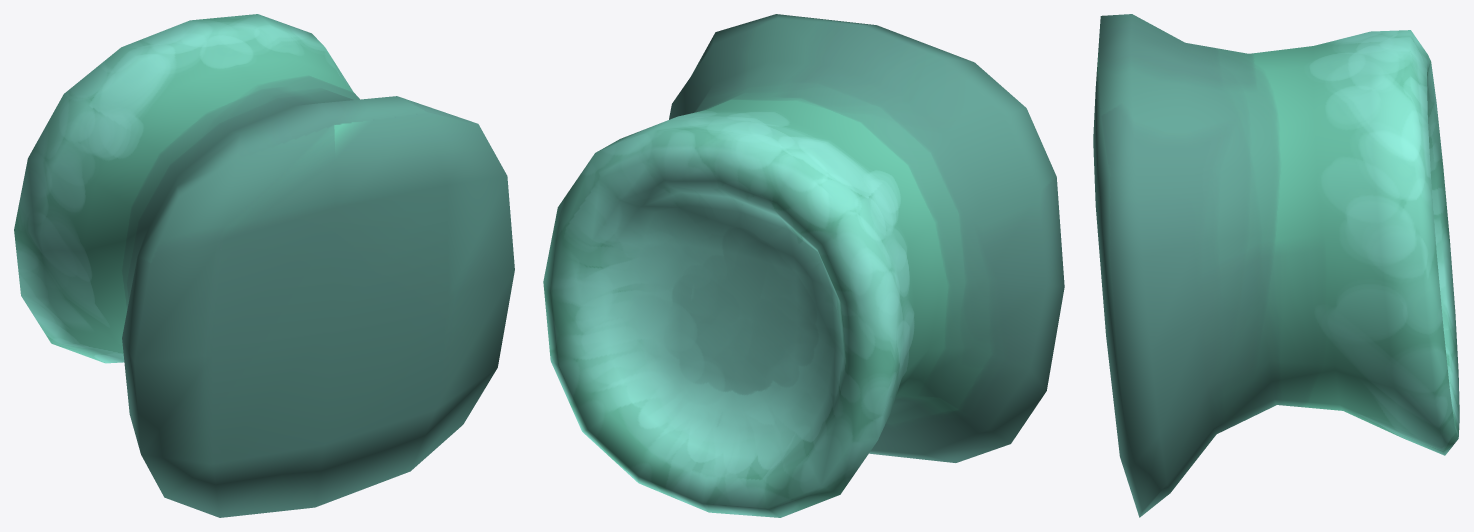
File: Anemone002.fbx
The picture shows the model from 3 angles, left to right: view 1: azimuth 30°, elevation 25°; view 2: azimuth 150°, elevation 25°; view 3: azimuth 270°, elevation 25°; orthographic projection. The views are drawn at different scales.
Visible parts, largest first — view 1: SeaAnemone02; view 2: SeaAnemone02; view 3: SeaAnemone02.
Boxes of the visible parts, <box> form: SeaAnemone02: <box>14,14,514,517</box>; SeaAnemone02: <box>543,14,1064,517</box>; SeaAnemone02: <box>1093,14,1459,517</box>.
Size of the model in its own units: 583 by 596 by 451.
Materials: 1 (1 with a texture image).
